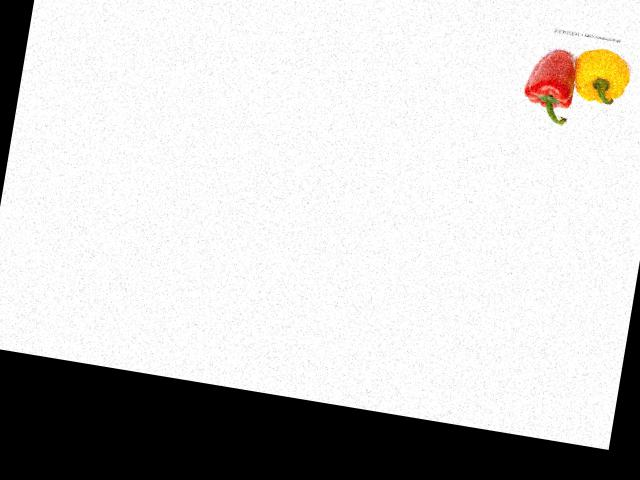bell_pepper: (567, 40, 637, 112)
